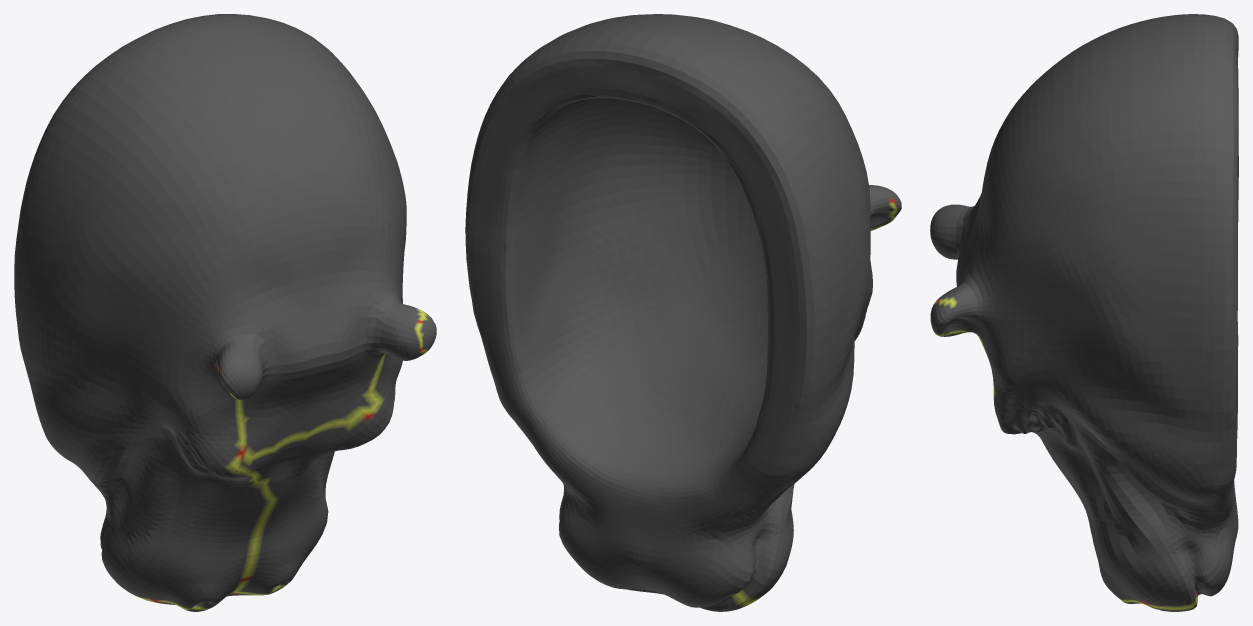
Rendered from colour_hippo.obj.
3 renders of one model, left to right at view 1: azimuth 30°, elevation 25°; view 2: azimuth 150°, elevation 25°; view 3: azimuth 270°, elevation 25°, orthographic. The views are drawn at different scales.
Bounding box in the file's own units: 7.68 × 11.74 × 5.9.
